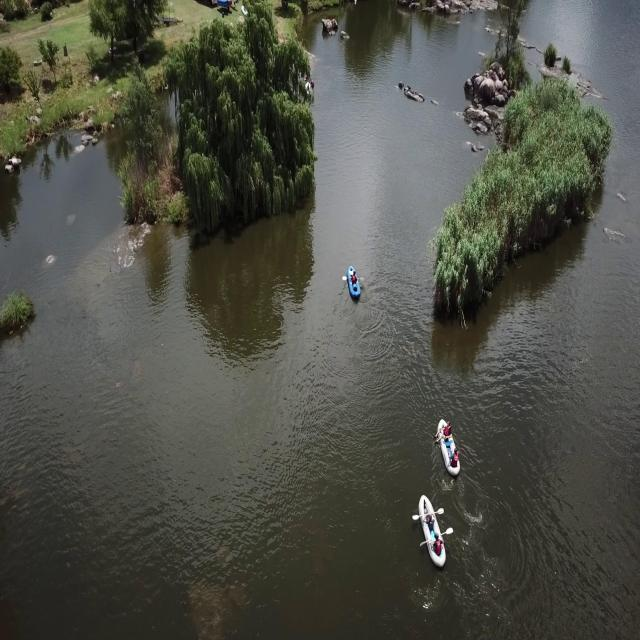kayak: (411, 494, 454, 568), (434, 416, 463, 479), (344, 263, 363, 307)
